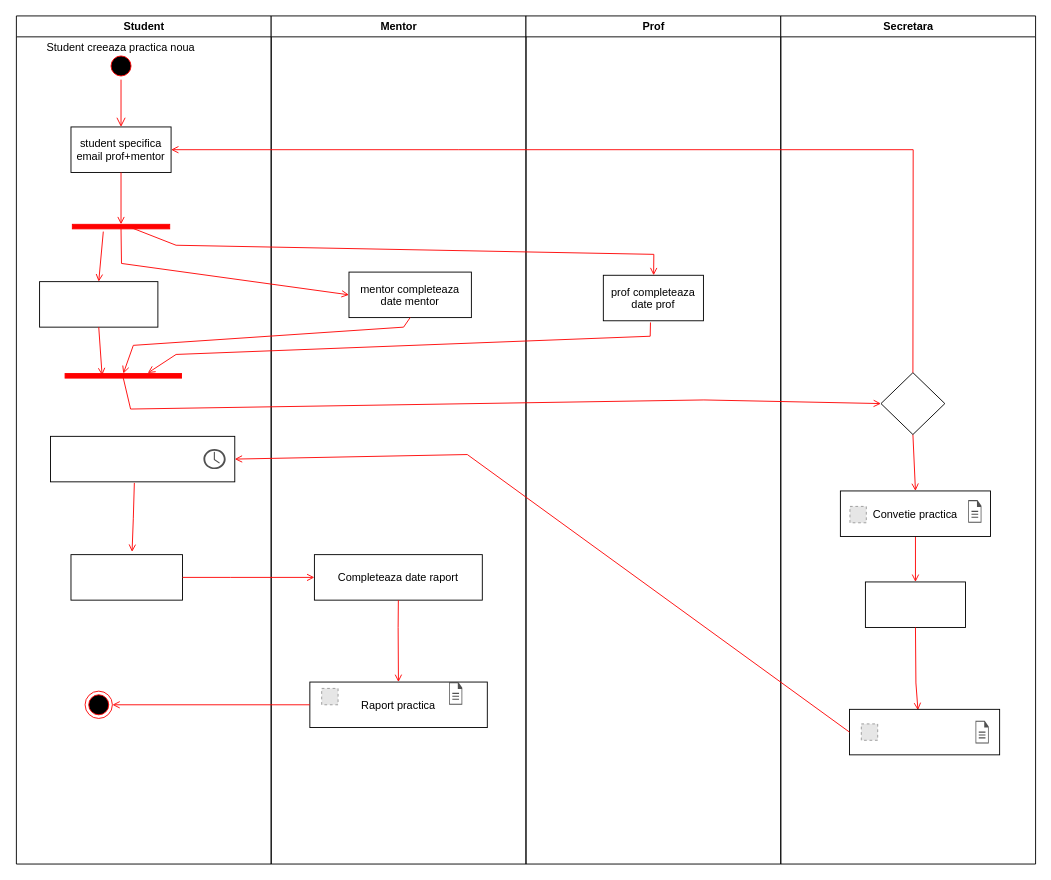
The diagram is 1051 pixels wide and 880 high, and some of its shapes have lost their labels. Grey dashed boxes stand in for pictures. Each missing label, with the box of its shape:
Acord practica: (849, 708, 1000, 755)
Date corecte?: (880, 372, 945, 435)
Desfasurare practica: (50, 435, 235, 482)
generare acord: (864, 581, 966, 627)
Request raport: (70, 554, 182, 600)
Student completeaza date student: (39, 281, 158, 327)
